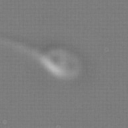normal: (1, 35, 42, 68)
